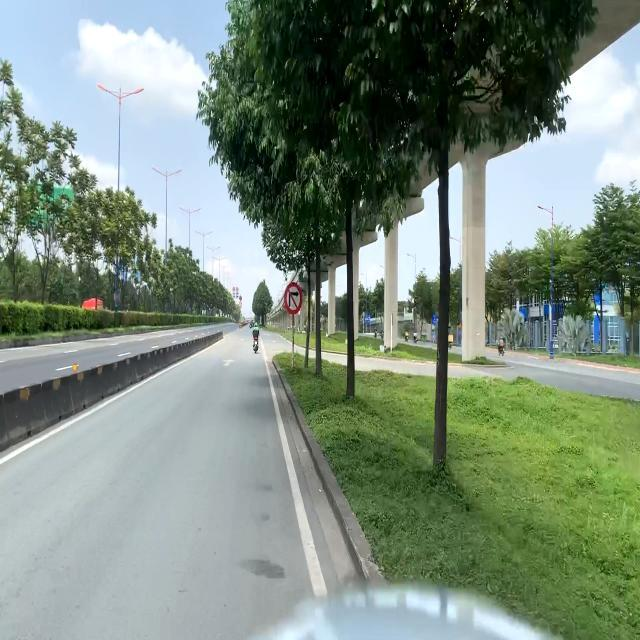Cam dung xe va do xe: (239, 296, 242, 300)
Cam re phai: (284, 282, 302, 314)
